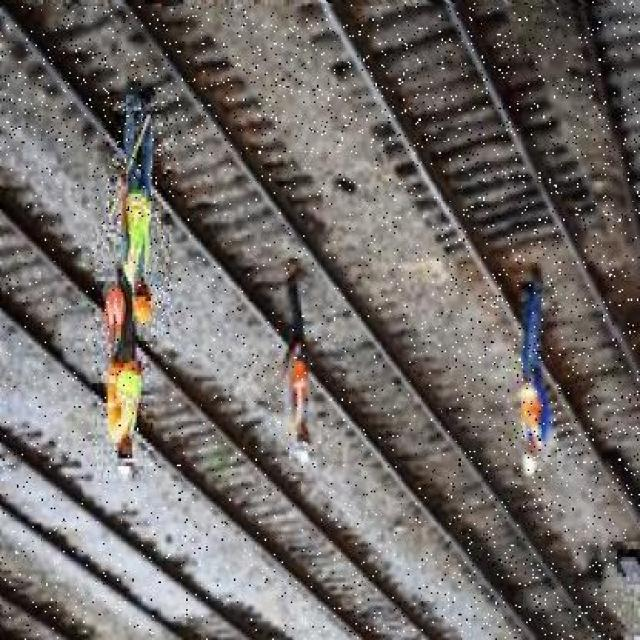rail: (1, 7, 618, 640), (1, 155, 449, 640), (315, 3, 640, 542)
